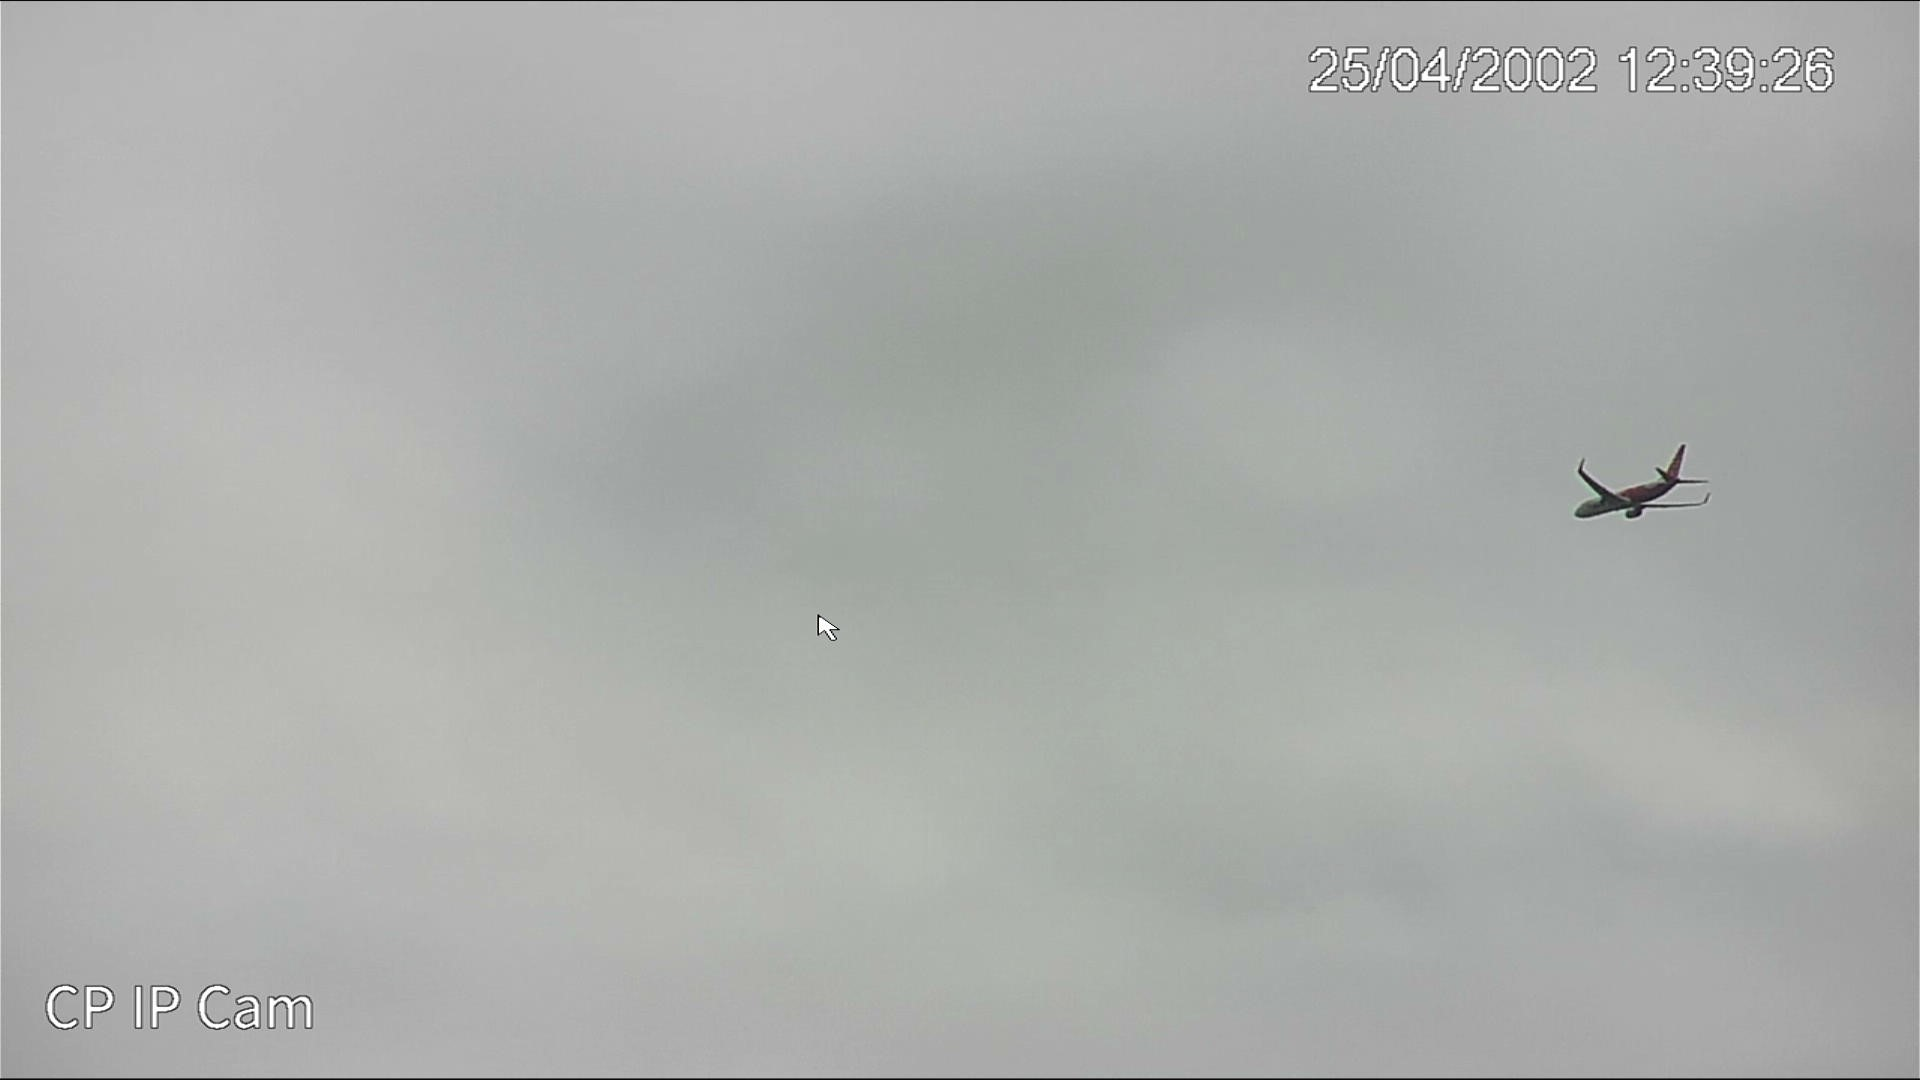SU_30: (1561, 444, 1716, 520)
